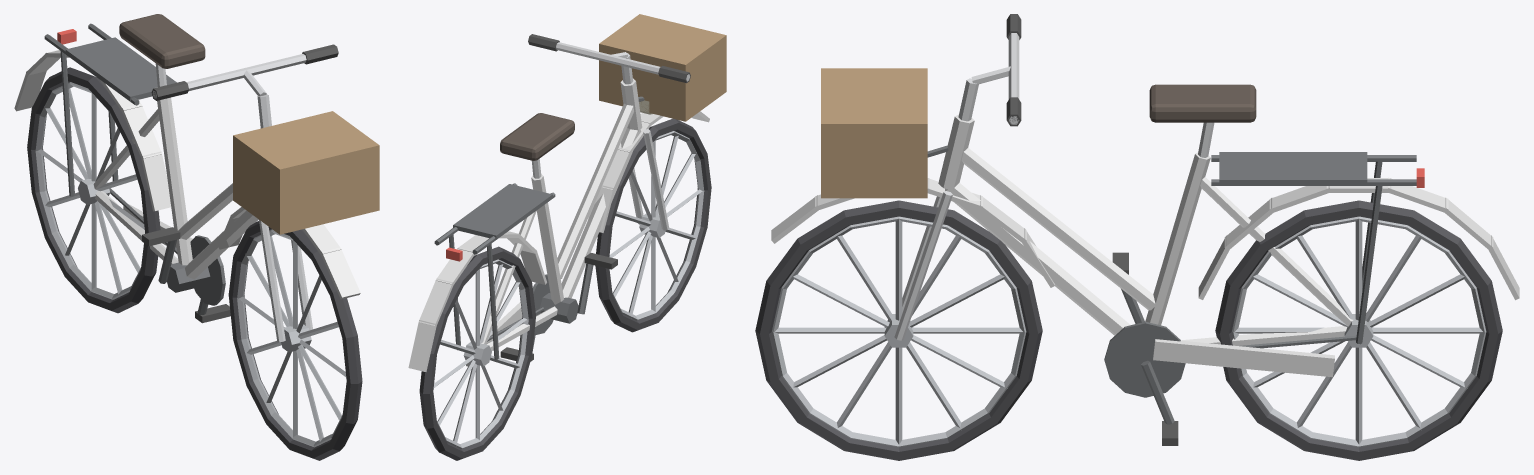
File: bike-city.glb
3 renders of one model, left to right at view 1: azimuth 30°, elevation 25°; view 2: azimuth 150°, elevation 25°; view 3: azimuth 270°, elevation 25°, orthographic. The views are drawn at different scales.
Parts seen in each view (by area): view 1: detach_basket, wheel-front, wheel-back, body, detach_rack, steer, detach_mudguard_back, seat, detach_mudguard_front; view 2: body, wheel-back, wheel-front, detach_basket, detach_rack, detach_mudguard_back, steer, seat, detach_mudguard_front; view 3: wheel-front, body, wheel-back, detach_basket, detach_rack, detach_mudguard_back, steer, seat, detach_mudguard_front.
Boxes of the visible parts, x1,y1,x2,y2 form: detach_basket: (233, 111, 379, 234); wheel-front: (228, 221, 362, 460); wheel-back: (27, 67, 160, 313); body: (93, 63, 258, 323); detach_rack: (44, 23, 176, 196); steer: (151, 44, 338, 342); detach_mudguard_back: (14, 49, 171, 211); seat: (119, 14, 205, 68); detach_mudguard_front: (218, 207, 360, 299); body: (466, 78, 642, 366); wheel-back: (419, 246, 535, 460); wheel-front: (595, 118, 711, 332); detach_basket: (599, 14, 726, 121); detach_rack: (434, 183, 555, 359); detach_mudguard_back: (408, 231, 546, 371); steer: (528, 34, 690, 230); seat: (500, 113, 574, 160); detach_mudguard_front: (588, 111, 709, 232); wheel-front: (755, 200, 1042, 460); body: (938, 114, 1356, 445); wheel-back: (1215, 200, 1502, 460); detach_basket: (821, 68, 948, 198); detach_rack: (1211, 152, 1424, 344); detach_mudguard_back: (1198, 177, 1519, 300); steer: (894, 14, 1021, 340); seat: (1149, 84, 1256, 122); detach_mudguard_front: (771, 178, 1054, 287).
Size of the model in its own units: 0.58 by 1.07 by 1.86.
